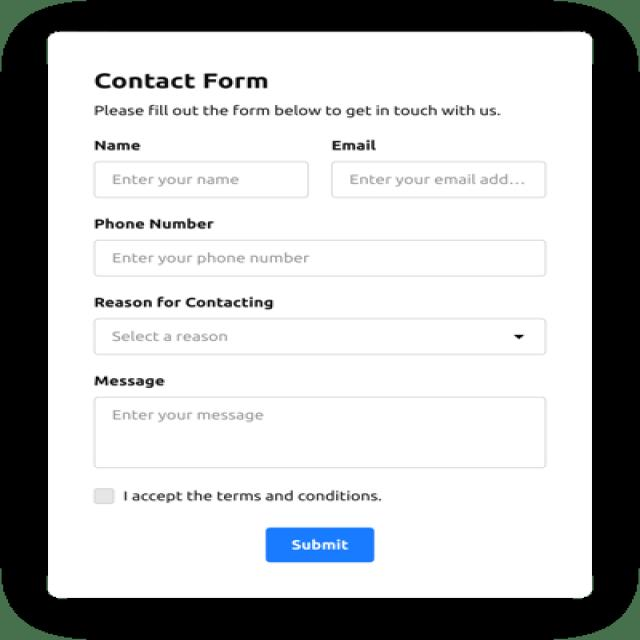buttons: (269, 527, 370, 565)
checkbox: (90, 487, 384, 507)
input-fields: (94, 397, 548, 469), (92, 239, 547, 276), (93, 320, 544, 354), (93, 160, 310, 198), (332, 162, 548, 196)
text: (90, 68, 274, 101)
